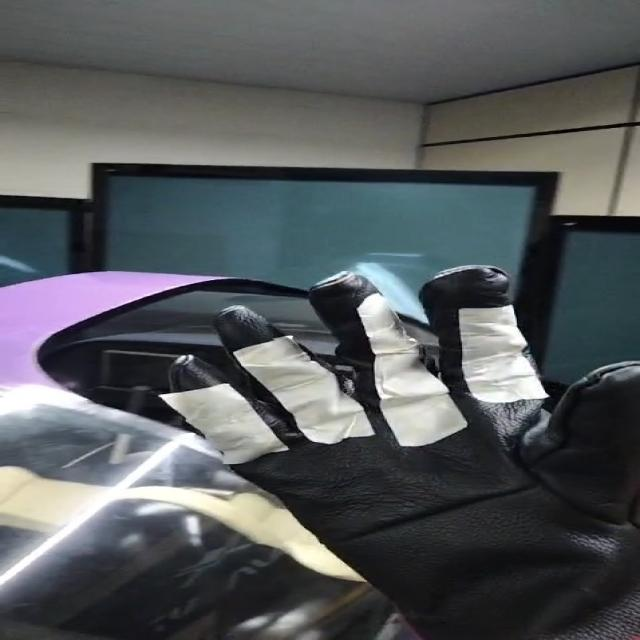Gloves: (164, 267, 640, 640)
